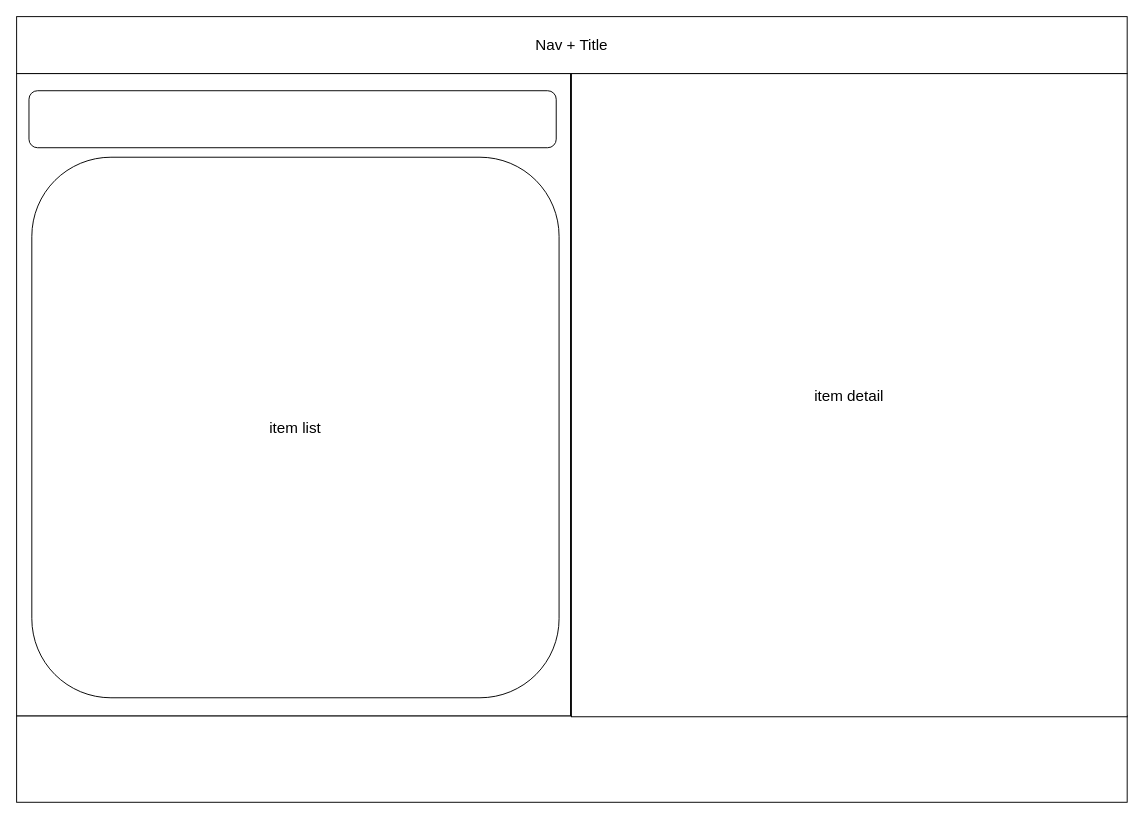
Image size: 1144x819. Some labels were removed from this diagram. The shapes that lost their labels are listed below. From the top down, each one's centre as x and y in pixels, then its label:
At [292,119]: "filter".
At [571,758]: "footer".
